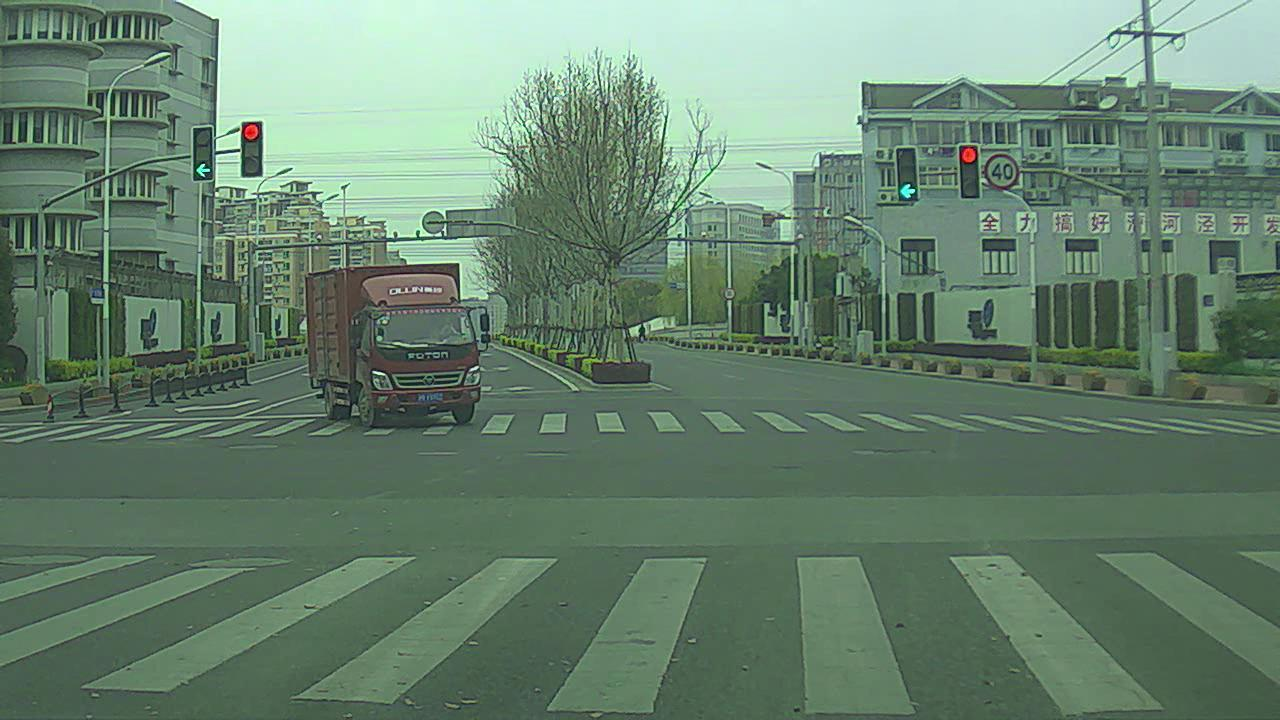traffic_light: (891, 145, 923, 204), (190, 122, 217, 180), (238, 120, 263, 180), (959, 142, 983, 199)
